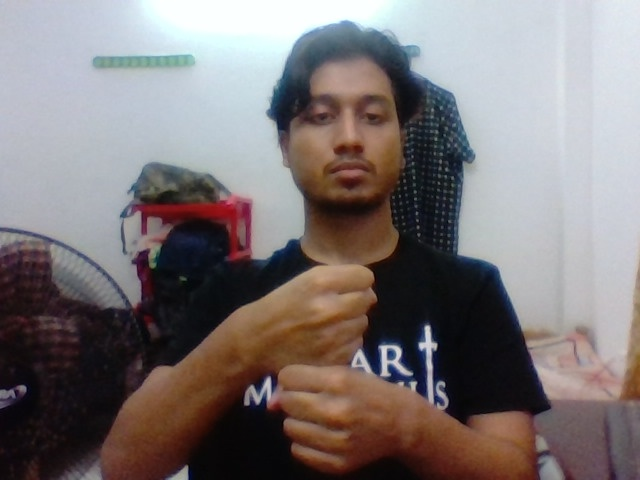G: (238, 246, 419, 472)
